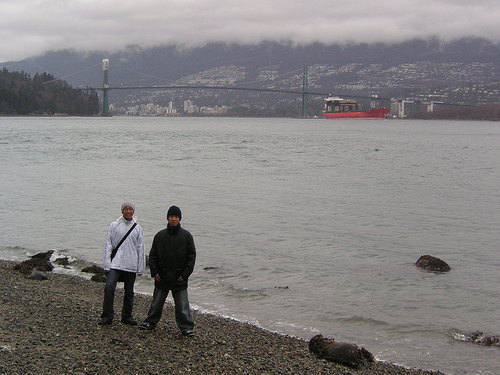without_mask: (167, 210, 181, 228), (121, 204, 135, 221)
